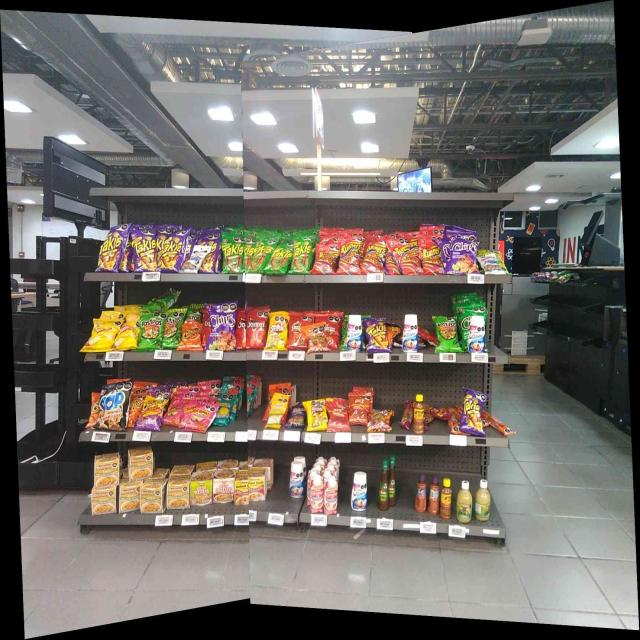bitzEnchilado90: (329, 400, 348, 430), (350, 393, 367, 423)
bitzEnchilado95: (486, 412, 510, 434), (450, 407, 461, 433)
bitzHabanero: (427, 405, 448, 420), (402, 402, 412, 429)
bokadosCacahuates: (289, 404, 304, 428)
botaneraChilito: (440, 478, 452, 518), (414, 395, 424, 433)
cheetosOriginal: (142, 392, 163, 430), (181, 323, 201, 349)
chipsFuego: (208, 303, 234, 350), (448, 232, 476, 274)
churrumais: (189, 404, 212, 428), (166, 399, 184, 425)
delPrimoSalsa: (456, 480, 472, 522), (475, 480, 490, 520)
doritosNacho: (246, 309, 266, 348), (235, 310, 244, 349)
fritosLimon: (268, 315, 286, 349), (308, 402, 326, 428)
leoCacahuates: (185, 249, 202, 272), (481, 254, 498, 274)
leoMix: (307, 327, 327, 352), (370, 411, 389, 430)
maruchanPollo: (129, 447, 153, 478), (94, 454, 118, 485), (167, 476, 189, 508), (142, 480, 164, 512), (92, 487, 117, 514), (119, 482, 140, 510)
maruchanRes: (248, 469, 267, 499), (235, 471, 248, 504)
nestleCarnation: (324, 476, 338, 513), (310, 474, 323, 513)
nestleLechera: (350, 471, 368, 511), (469, 316, 485, 352), (403, 314, 418, 352), (290, 461, 305, 499), (348, 315, 362, 350)
nissinCamaron: (192, 473, 211, 504)
nissinRes: (214, 472, 234, 501)
popKarameladas: (100, 384, 128, 428)
rancheritos: (288, 314, 305, 348), (328, 314, 339, 348)
runners: (419, 235, 441, 274), (394, 236, 415, 274), (339, 236, 359, 274), (366, 240, 385, 272), (316, 244, 335, 275)
sabritasOriginal: (92, 320, 117, 350), (120, 316, 138, 350)
salsaBufalo: (378, 460, 388, 510), (390, 454, 396, 506)
semillasCalabaza: (269, 398, 283, 429)
semillasGirasol: (215, 392, 232, 424)
tajinDulce: (428, 474, 439, 513), (415, 473, 426, 512)
takisFuego: (98, 225, 120, 272), (132, 230, 156, 270), (464, 388, 483, 432), (163, 231, 181, 271), (367, 319, 388, 351)
takisOriginal: (222, 232, 243, 272), (250, 236, 268, 272), (271, 243, 291, 274), (293, 236, 309, 273)
tostitos: (437, 316, 458, 353), (140, 314, 162, 349), (145, 288, 177, 309), (164, 310, 180, 350)
